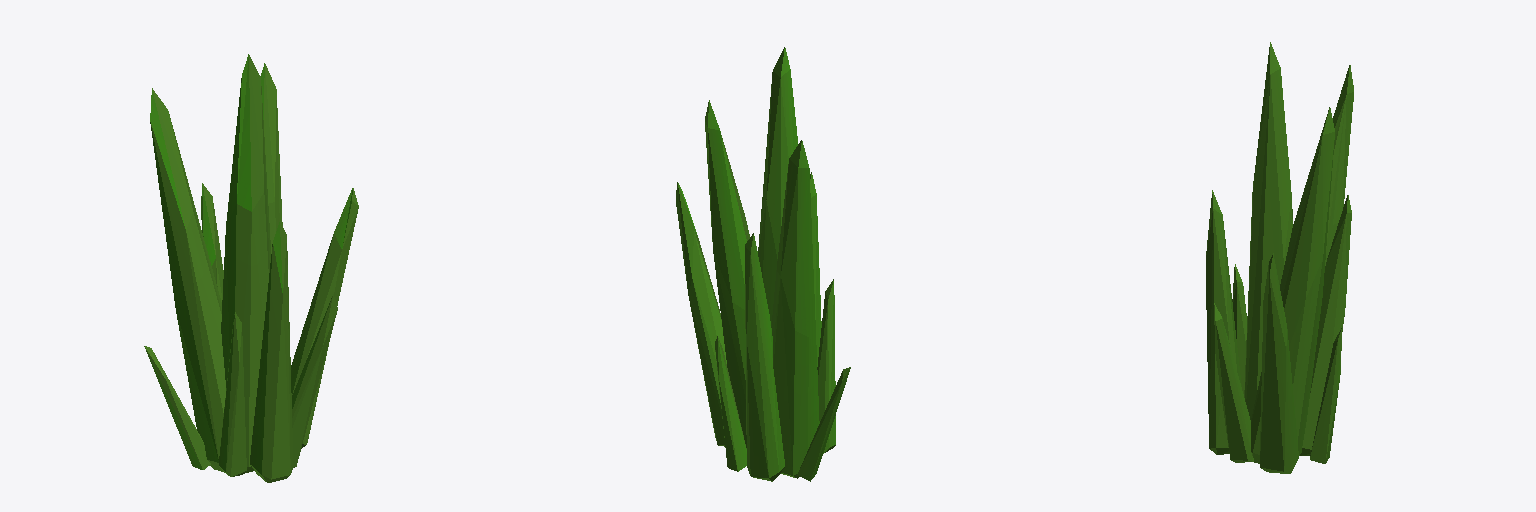
3 renders of one model, left to right at view 1: azimuth 30°, elevation 25°; view 2: azimuth 150°, elevation 25°; view 3: azimuth 270°, elevation 25°, orthographic.
Parts seen in each view (by area): view 1: Coral_CoralMesh.001; view 2: Coral_CoralMesh.001; view 3: Coral_CoralMesh.001.
Part boxes in pixels (bbox=[...]): Coral_CoralMesh.001: bbox=[144, 54, 358, 482]; Coral_CoralMesh.001: bbox=[676, 47, 850, 481]; Coral_CoralMesh.001: bbox=[1206, 42, 1353, 473].
Bounding box in the file's own units: 0.2517 × 0.5149 × 0.166.
1 materials, 1 textured.